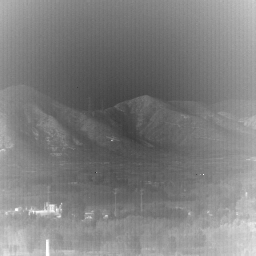aircraft: (112, 140, 114, 142)
